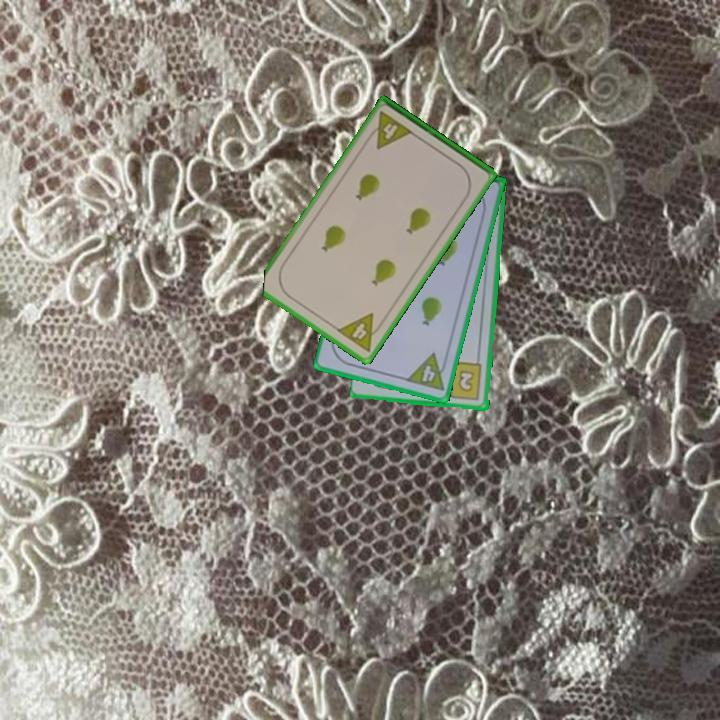2b: (441, 359, 485, 403)
4p: (333, 309, 387, 355), (363, 108, 416, 152), (403, 350, 451, 394)
